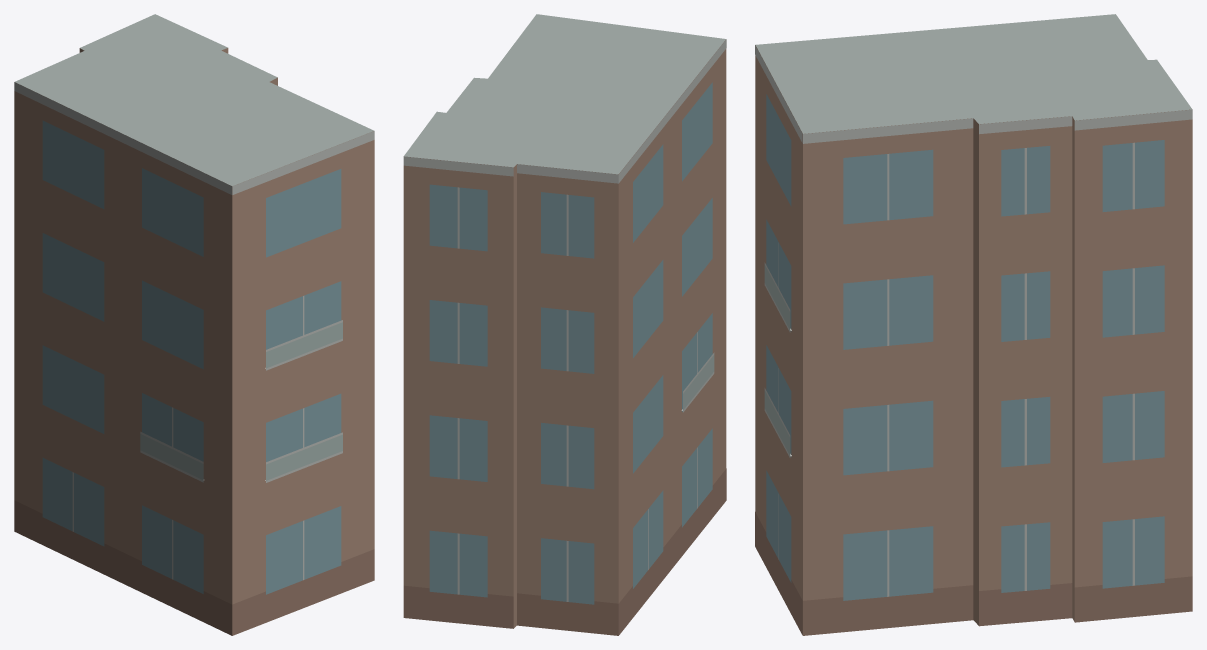
The model's file is survey-upis-32963139.glb.
The picture shows the model from 3 angles, left to right: view 1: azimuth 30°, elevation 25°; view 2: azimuth 150°, elevation 25°; view 3: azimuth 270°, elevation 25°; orthographic projection. The views are drawn at different scales.
Visible parts, largest first — view 1: survey-upis-32963139.tmp; view 2: survey-upis-32963139.tmp; view 3: survey-upis-32963139.tmp.
Part boxes in pixels (left/top/right/bottom): survey-upis-32963139.tmp: left=14, top=14, right=374, bottom=635; survey-upis-32963139.tmp: left=403, top=14, right=726, bottom=635; survey-upis-32963139.tmp: left=755, top=14, right=1192, bottom=635.
Size of the model in its own units: 6.26 by 12.2 by 9.64.
